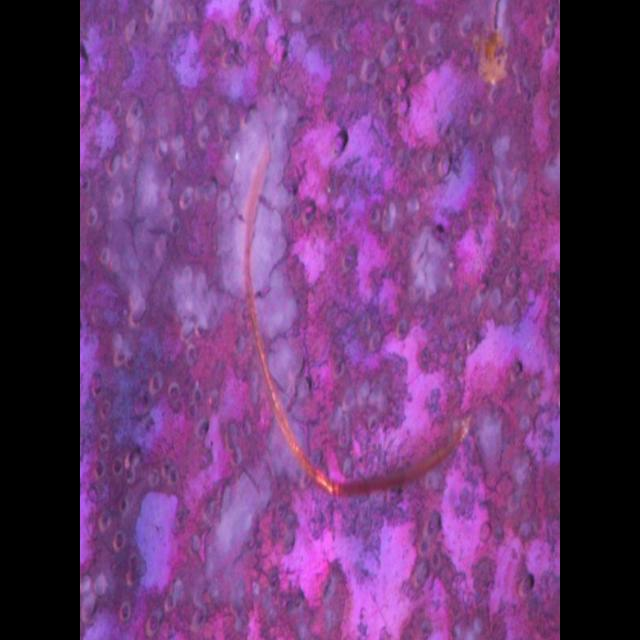Fibre: (239, 110, 473, 500)
